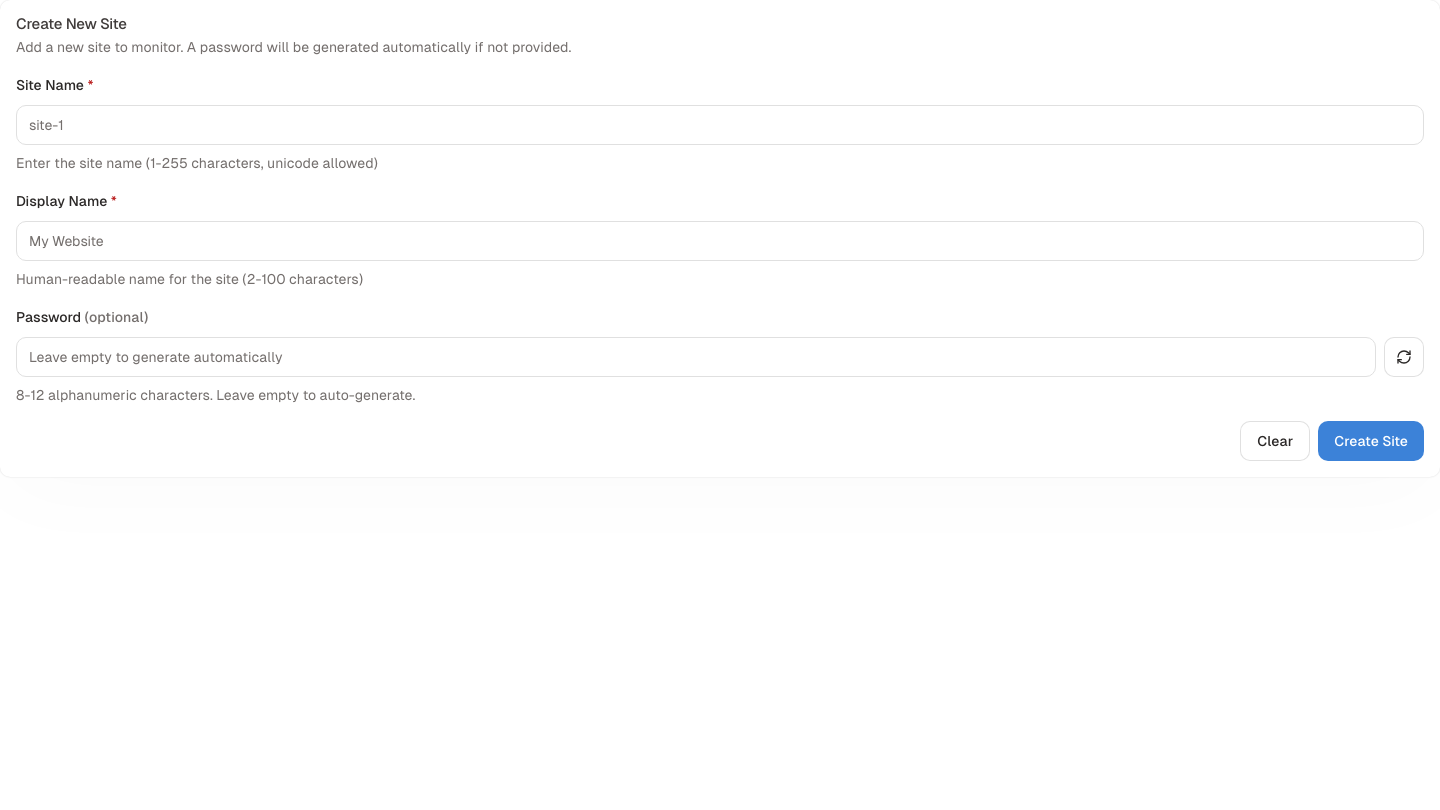
CreateSiteForm › Form Validation › should show error when password is too short
The image size is (1440, 810).
In the field labelled "Password (optional)": (696, 357) [16, 337, 1376, 377], type "short"
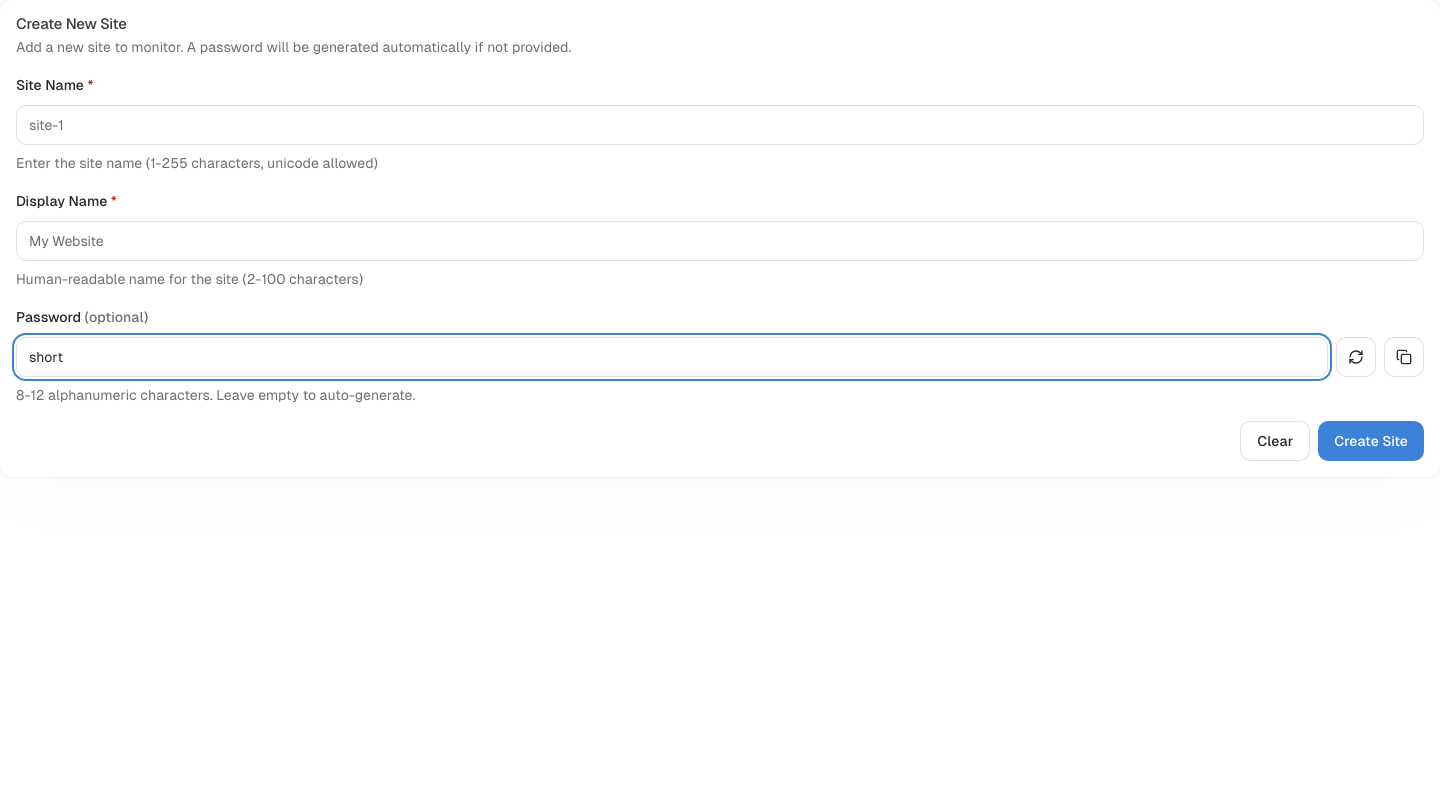
Click the button "Create Site": (1371, 441) [1318, 421, 1424, 461]
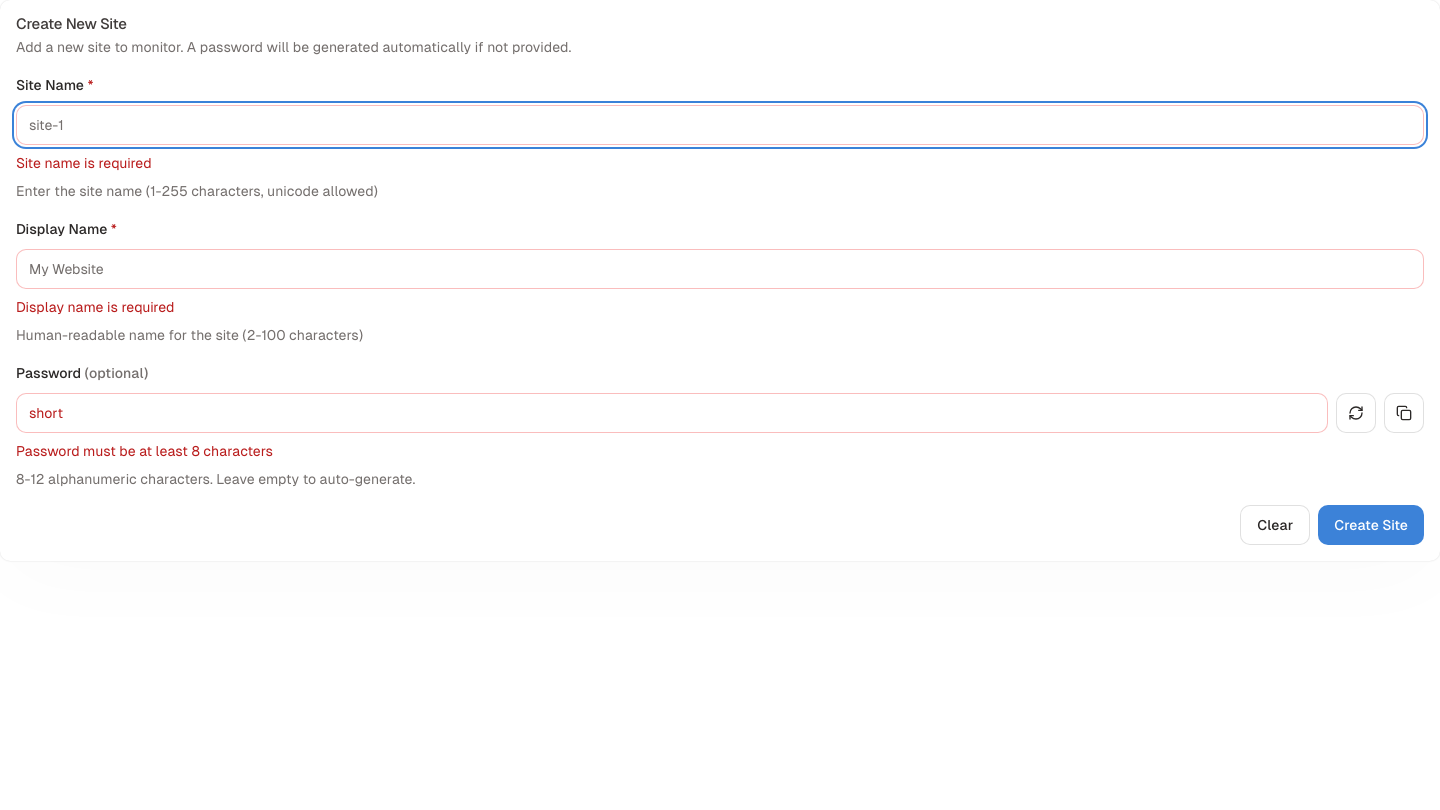
Expected: the text "Password must be at least 8 characters" is shown, [16, 443, 273, 459]
